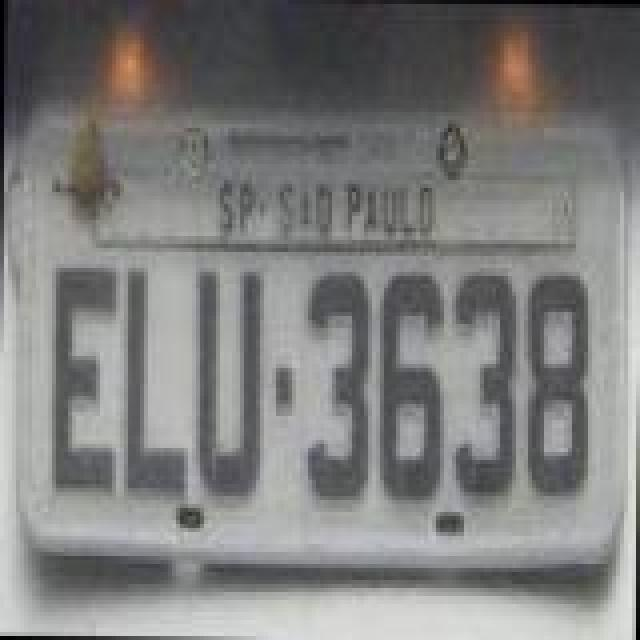3: (296, 264, 376, 504), (448, 270, 520, 506)
6: (372, 266, 444, 502)
8: (524, 268, 596, 500)
E: (52, 258, 124, 494)
L: (120, 262, 192, 490)
U: (194, 266, 270, 502)
